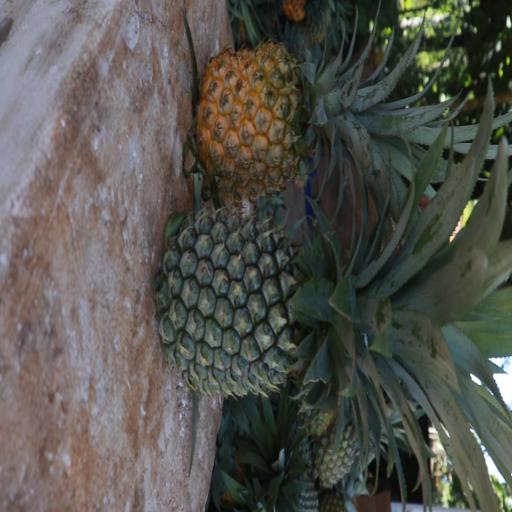Pineapple - v8 v1: (194, 38, 445, 188)
